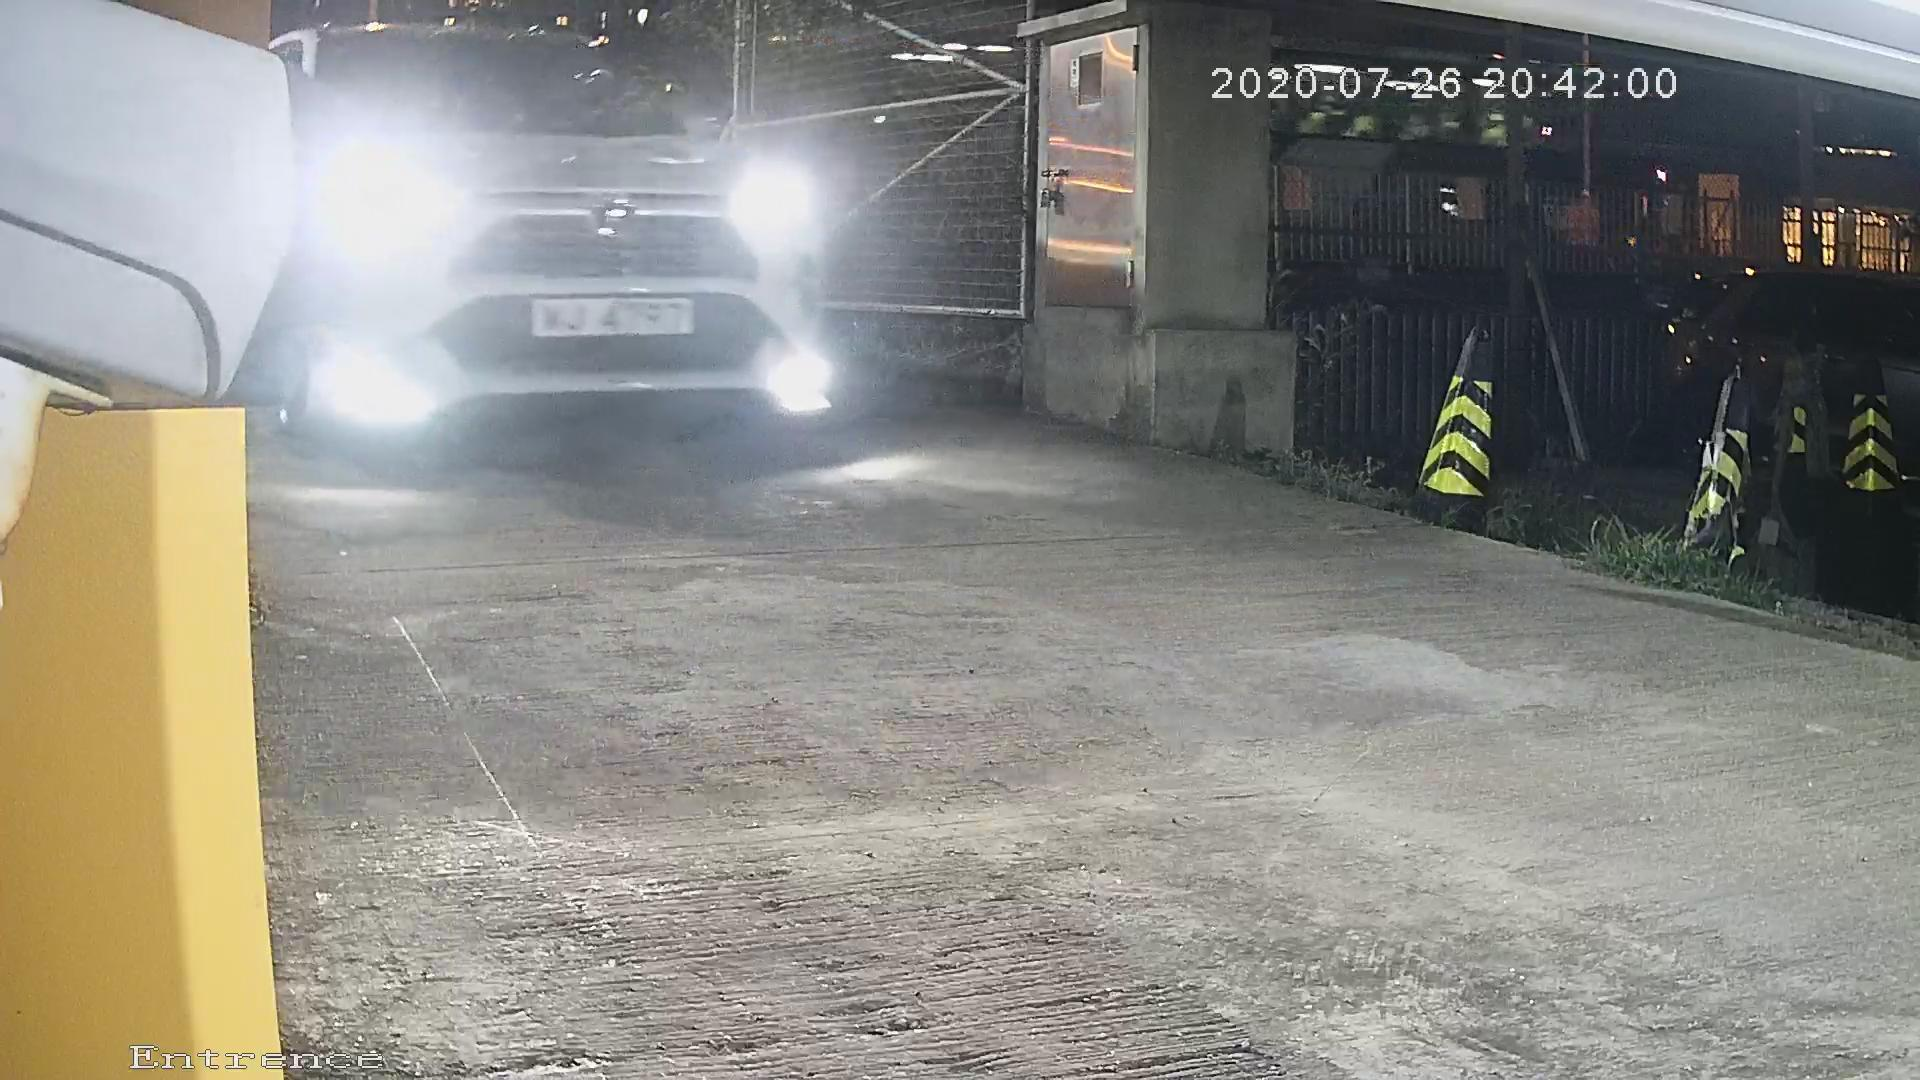License Plate: (506, 261, 721, 377)
